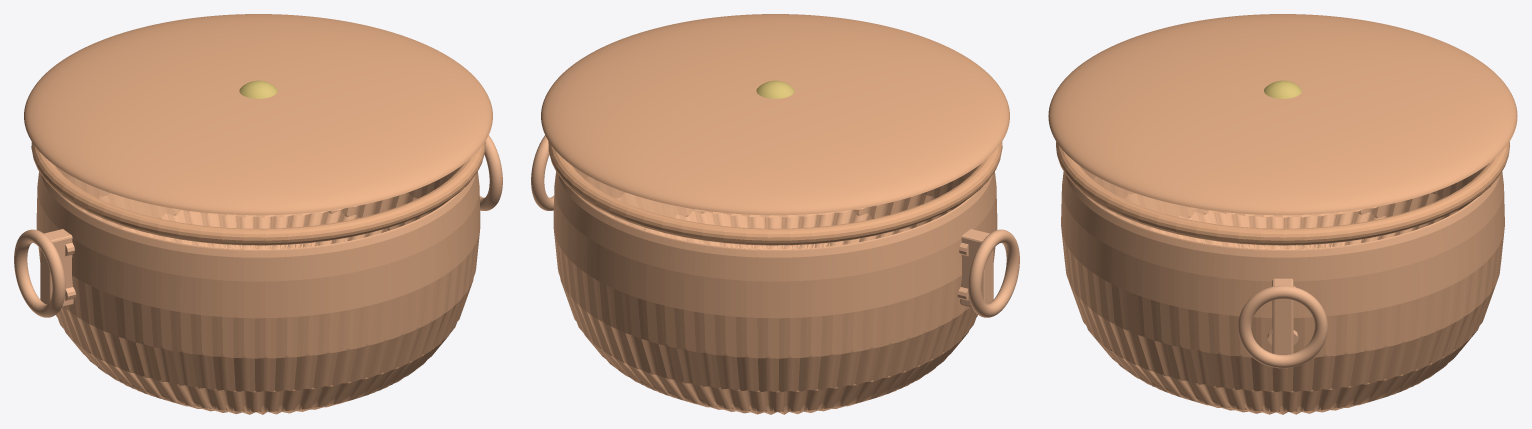
3 views of the same model, side by side, from view 1: azimuth 30°, elevation 25°; view 2: azimuth 150°, elevation 25°; view 3: azimuth 270°, elevation 25° (orthographic).
Parts seen in each view (by area): view 1: Pot_Lid, Pot_Body, Pot_Rim, Pot_Handle_2, Pot_Handle_Connector_2, Pot_Handle_1, Lid_Knob; view 2: Pot_Lid, Pot_Body, Pot_Rim, Pot_Handle_2, Pot_Handle_Connector_2, Pot_Handle_1, Lid_Knob; view 3: Pot_Lid, Pot_Body, Pot_Rim, Pot_Handle_1, Pot_Handle_Connector_1, Lid_Knob.
Part boxes in pixels (box(x1,y1,x2,y2)): Pot_Lid: box(24, 14, 492, 215); Pot_Body: box(36, 166, 480, 414); Pot_Rim: box(31, 141, 485, 245); Pot_Handle_2: box(14, 229, 65, 317); Pot_Handle_Connector_2: box(40, 229, 73, 307); Pot_Handle_1: box(479, 135, 502, 210); Lid_Knob: box(239, 80, 277, 98); Pot_Lid: box(541, 14, 1009, 215); Pot_Body: box(553, 166, 997, 414); Pot_Rim: box(548, 141, 1002, 245); Pot_Handle_2: box(968, 229, 1019, 317); Pot_Handle_Connector_2: box(960, 229, 993, 307); Pot_Handle_1: box(531, 135, 554, 210); Lid_Knob: box(756, 80, 794, 98); Pot_Lid: box(1048, 14, 1517, 215); Pot_Body: box(1061, 166, 1504, 414); Pot_Rim: box(1056, 142, 1509, 245); Pot_Handle_1: box(1238, 285, 1327, 368); Pot_Handle_Connector_1: box(1272, 278, 1293, 354); Lid_Knob: box(1264, 80, 1301, 98).
Bounding box in the file's own units: 0.7391 × 0.478 × 0.6689.
